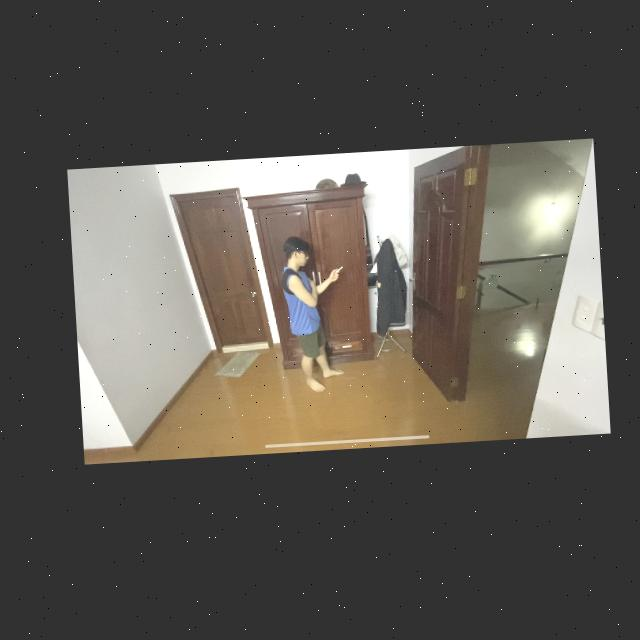cigarette: (331, 270, 340, 276)
